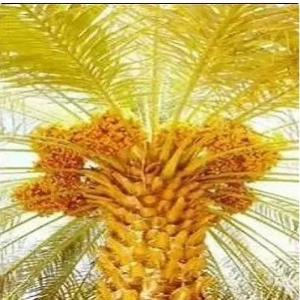palm tree: (0, 3, 299, 299)
